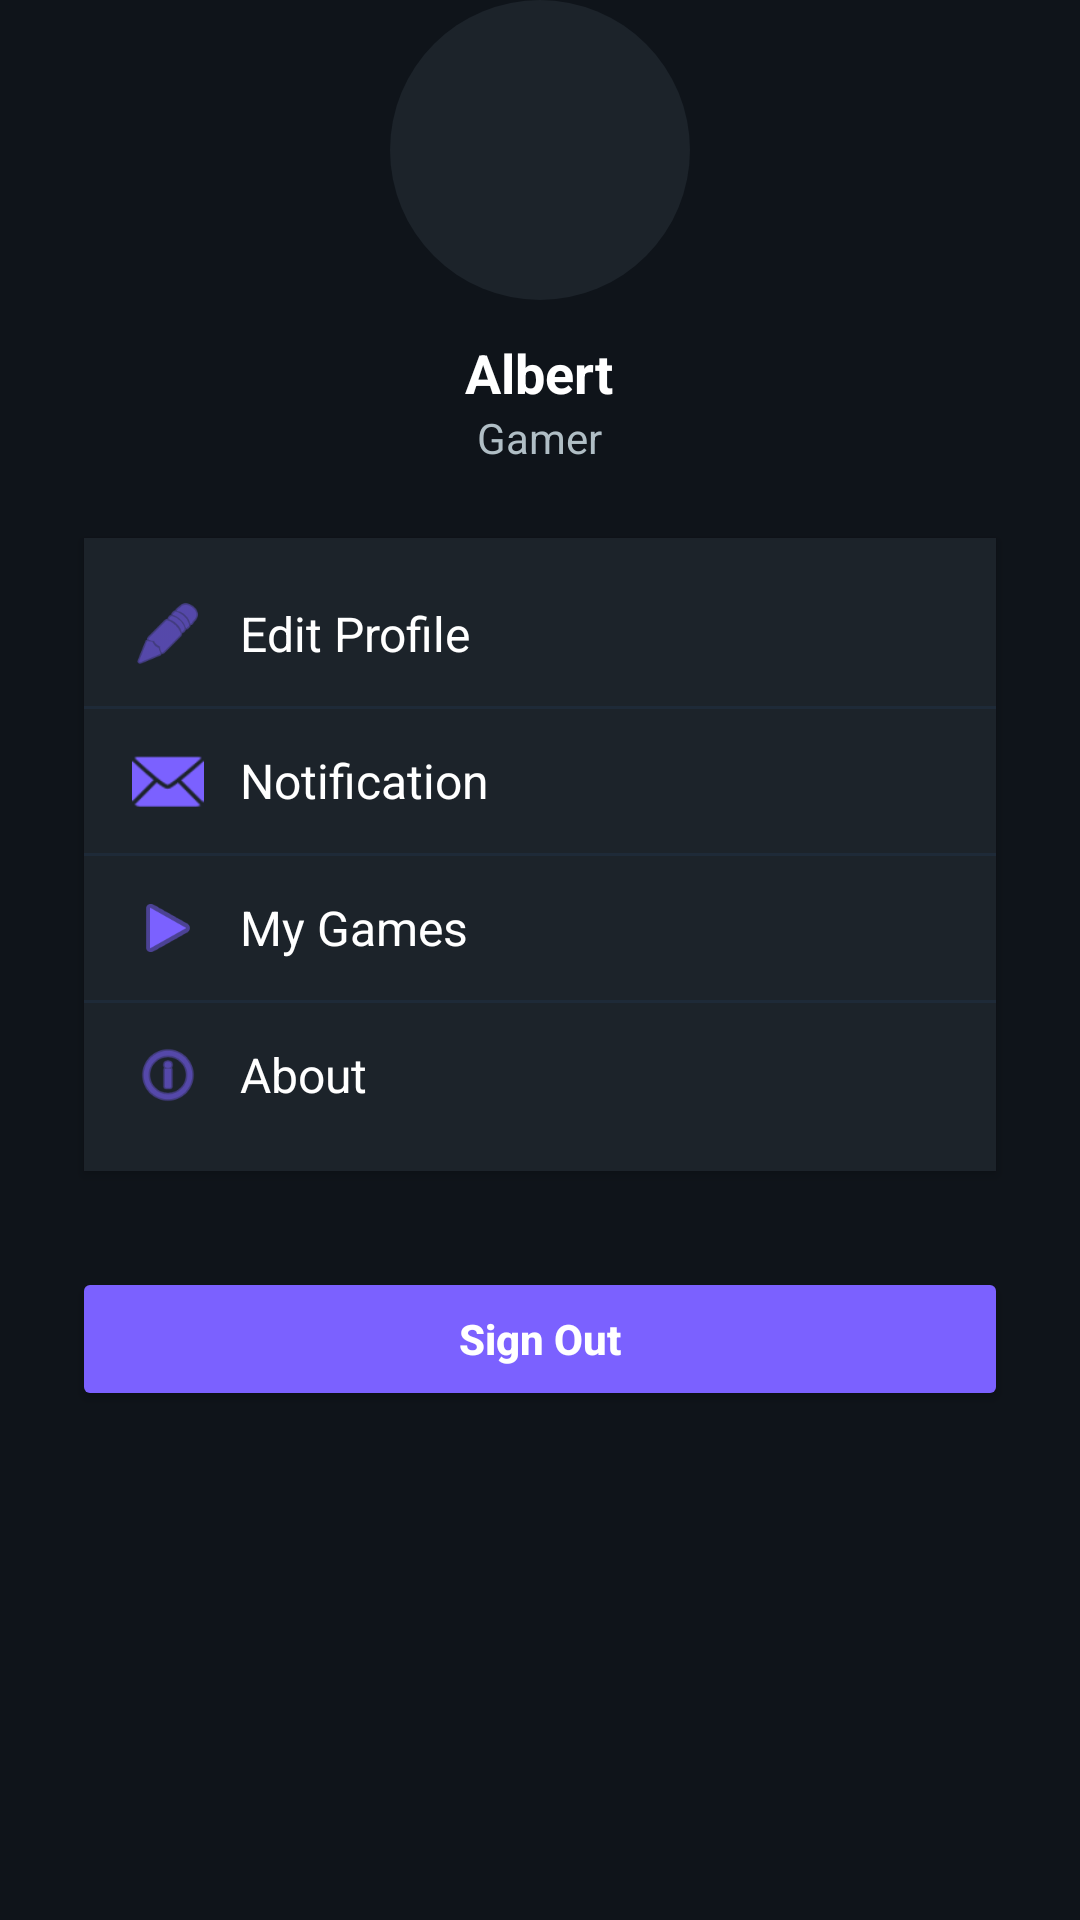

Locate icon controls on the screen. Image size 1080x1920, boxes as [x1=x1, y1=y1, x2=x2, y2=y2].
email: [x1=132, y1=756, x2=204, y2=807]
info details: [x1=142, y1=1049, x2=194, y2=1101]
play: [x1=146, y1=904, x2=190, y2=952]
